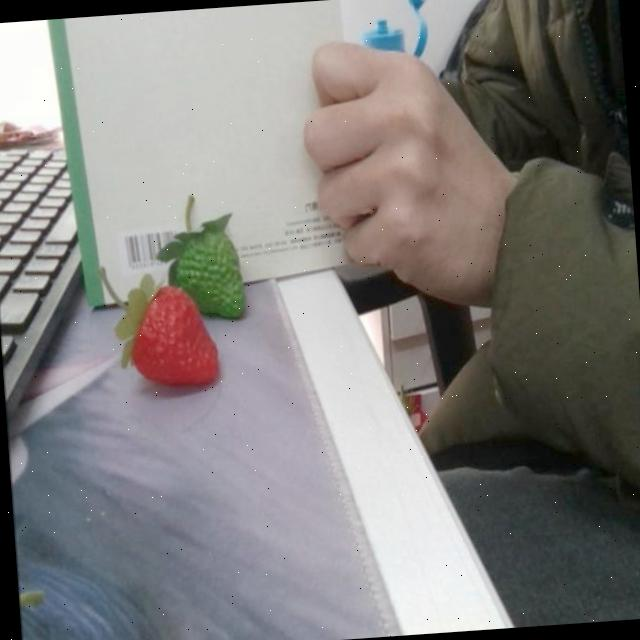strawberry: (127, 279, 220, 389), (173, 222, 246, 318)
